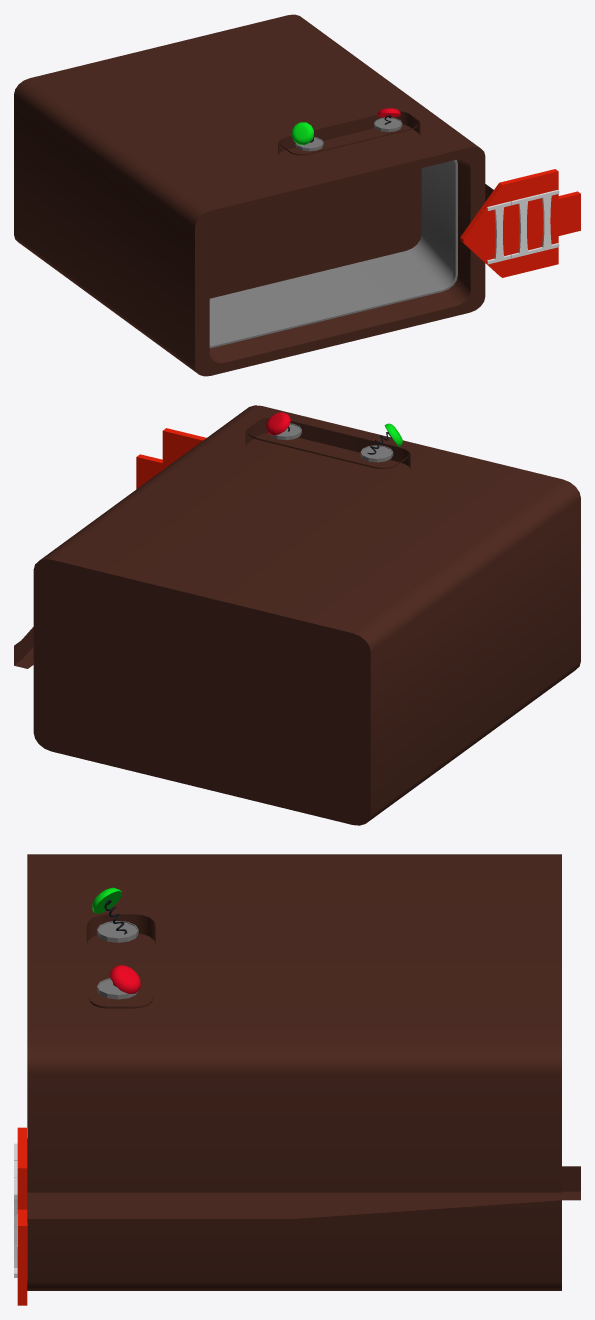
File: slot3.fbx
3 views of the same model, one above another, from view 1: azimuth 30°, elevation 25°; view 2: azimuth 150°, elevation 25°; view 3: azimuth 270°, elevation 25° (orthographic). The views are drawn at different scales.
Visible parts, largest first — view 1: Slot3; view 2: Slot3; view 3: Slot3.
Boxes of the visible parts, box(x1,y1,x2,y2) form: Slot3: box(14, 14, 580, 376); Slot3: box(14, 405, 580, 825); Slot3: box(14, 854, 580, 1305).
Size of the model in its own units: 401 by 203 by 348.
